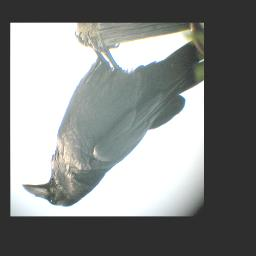Crow: (20, 30, 203, 209)
